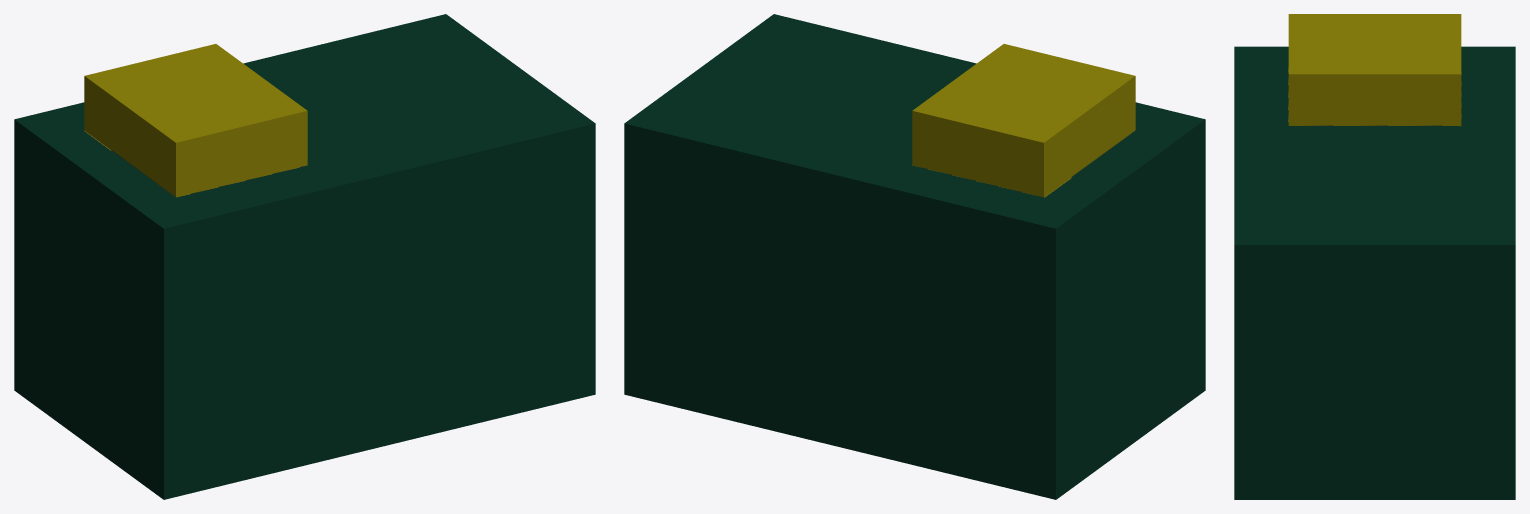
File: Ammo.glb
The picture shows the model from 3 angles, left to right: view 1: azimuth 30°, elevation 25°; view 2: azimuth 150°, elevation 25°; view 3: azimuth 270°, elevation 25°; orthographic projection. The views are drawn at different scales.
Parts seen in each view (by area): view 1: Ammo; view 2: Ammo; view 3: Ammo.
Boxes of the visible parts, bbox=[...] form: Ammo: bbox=[14, 14, 595, 499]; Ammo: bbox=[624, 14, 1205, 499]; Ammo: bbox=[1234, 14, 1515, 499].
Bounding box in the file's own units: 0.5 × 0.3605 × 0.3.
1 material, 1 textured.
